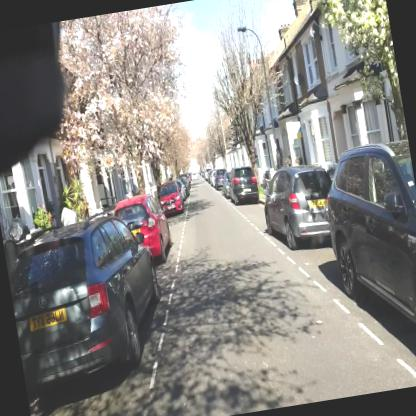car: (1, 206, 173, 406), (316, 141, 415, 391), (257, 161, 341, 254), (110, 192, 176, 268), (224, 166, 260, 208), (156, 180, 184, 218)
